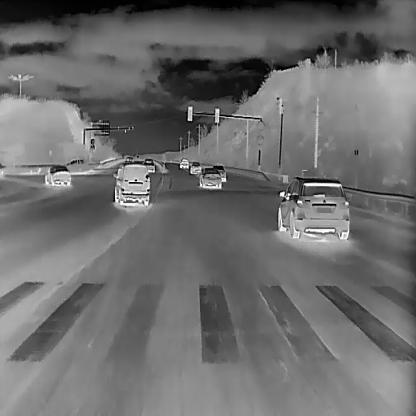car: (277, 175, 351, 242), (114, 163, 150, 206), (43, 163, 71, 187), (198, 168, 221, 190), (212, 164, 226, 182), (144, 158, 155, 172), (190, 161, 200, 174), (179, 157, 189, 169)
